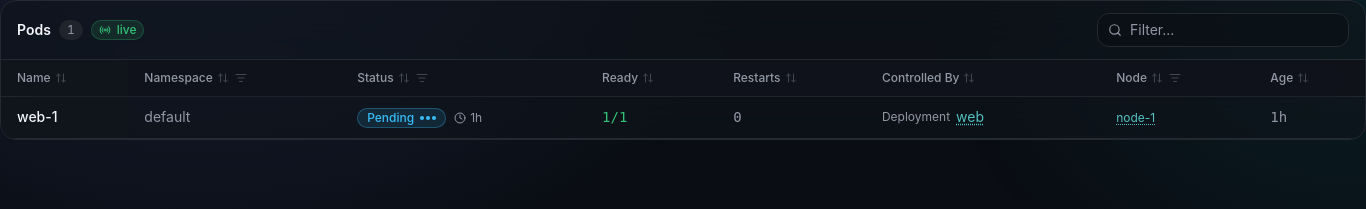
Test: PodsTable › hovering a Pending pod fetches and shows its pending detail
Step 1. Hover over the text "Pending" → x=402, y=118, box [357, 108, 446, 128]
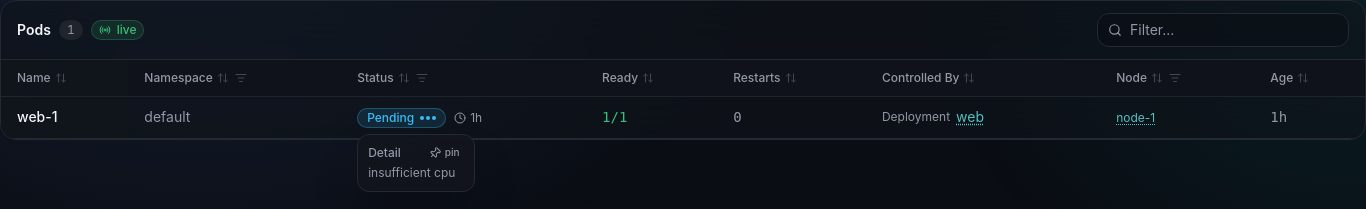
Now the text "insufficient cpu" is shown, box [368, 165, 464, 181]
